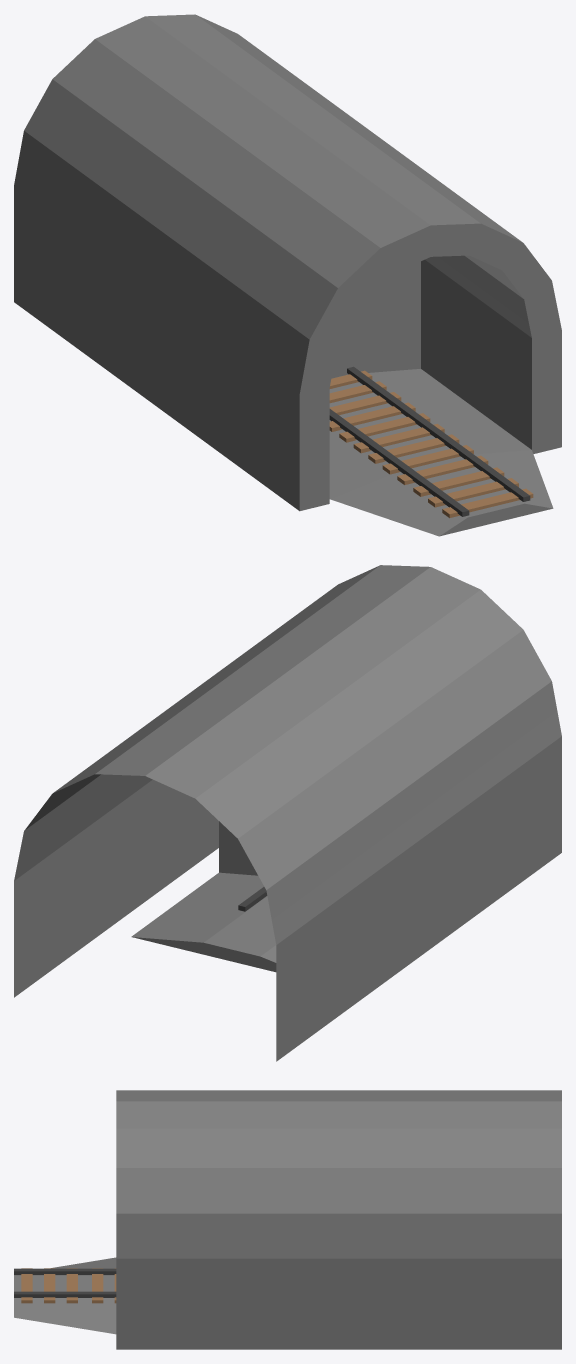
File: west_huoche03.FBX
The picture shows the model from 3 angles, top to bottom: view 1: azimuth 30°, elevation 25°; view 2: azimuth 150°, elevation 25°; view 3: azimuth 270°, elevation 25°; orthographic projection. The views are drawn at different scales.
Parts seen in each view (by area): view 1: west_huoche03; view 2: west_huoche03; view 3: west_huoche03.
Boxes of the visible parts, x1,y1,x2,y2 form: west_huoche03: (14, 14, 561, 536); west_huoche03: (14, 565, 561, 1061); west_huoche03: (14, 1090, 561, 1349).
Size of the model in its own units: 2792 by 2582 by 6472.
